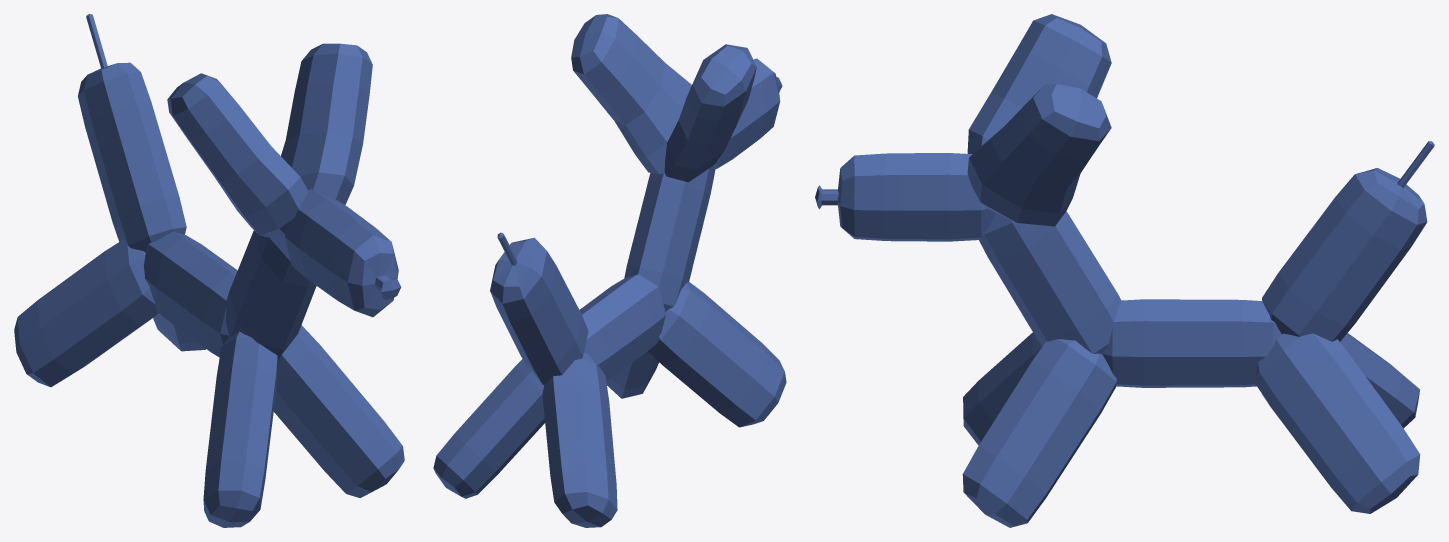
File: Ballondog (1).fbx
3 views of the same model, side by side, from view 1: azimuth 30°, elevation 25°; view 2: azimuth 150°, elevation 25°; view 3: azimuth 270°, elevation 25° (orthographic). The views are drawn at different scales.
Visible parts, largest first — view 1: BalloonDog.001; view 2: BalloonDog.001; view 3: BalloonDog.001.
Part boxes in pixels (x1,y1,x2,y2): BalloonDog.001: (14,14,404,527); BalloonDog.001: (433,14,786,527); BalloonDog.001: (815,14,1434,527).
Bounding box in the file's own units: 0.5 × 1.1 × 1.4.
